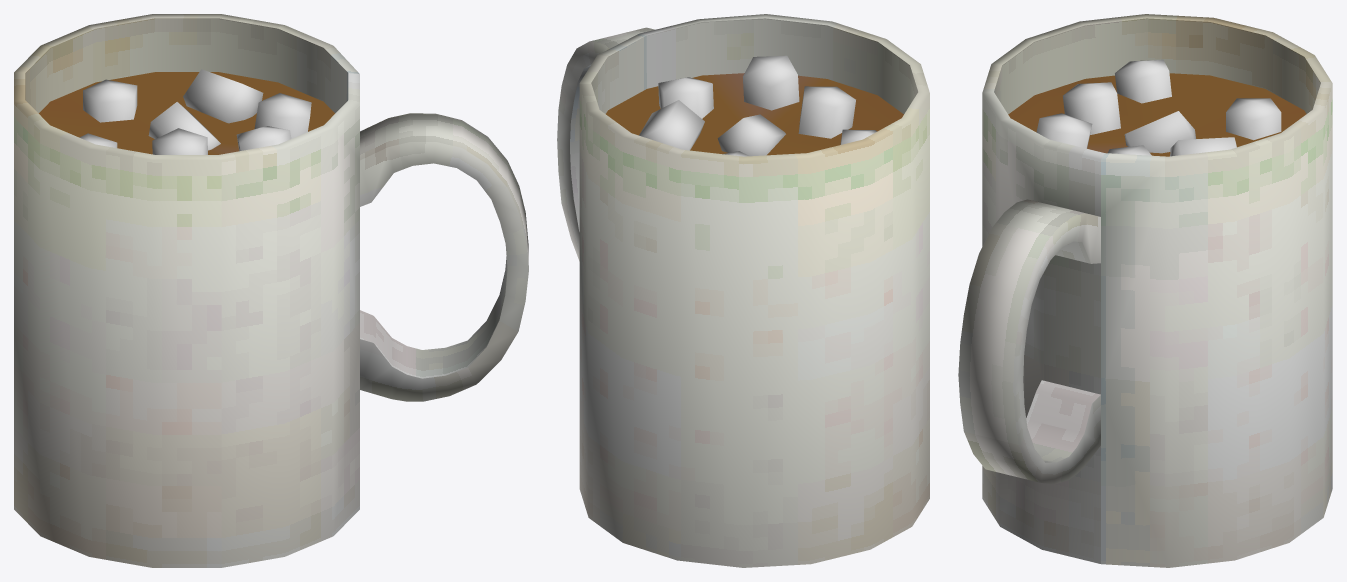
File: item_hot_cocoa.glb
3 views of the same model, side by side, from view 1: azimuth 30°, elevation 25°; view 2: azimuth 150°, elevation 25°; view 3: azimuth 270°, elevation 25° (orthographic).
Visible parts, largest first — view 1: Office_Mug, Mug_Plane_Marshmallows; view 2: Office_Mug, Mug_Plane_Marshmallows; view 3: Office_Mug, Mug_Plane_Marshmallows.
Part boxes in pixels (x1,y1,x2,y2): Office_Mug: (14,14,528,567); Mug_Plane_Marshmallows: (39,69,334,154); Office_Mug: (557,14,929,567); Mug_Plane_Marshmallows: (606,55,903,156); Office_Mug: (958,14,1332,567); Mug_Plane_Marshmallows: (1008,59,1306,156).
Bounding box in the file's own units: 0.1672 × 0.1544 × 0.1289.
2 materials, 1 textured.
